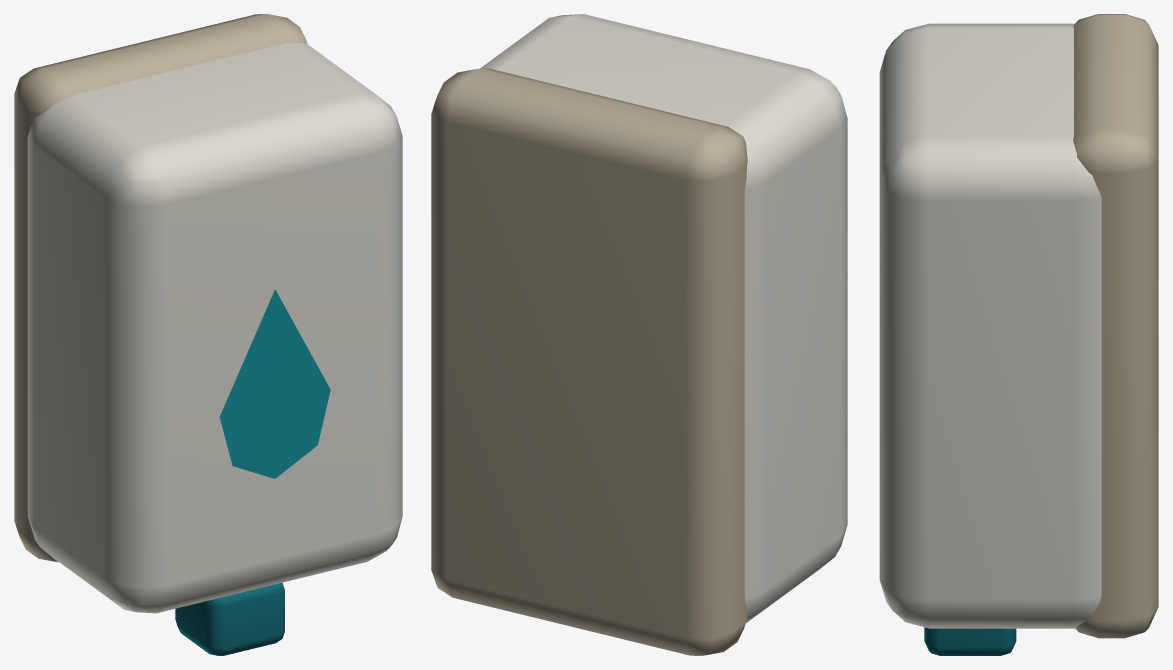
The model's file is 13_standard_soap_dispenser.glb.
3 renders of one model, left to right at view 1: azimuth 30°, elevation 25°; view 2: azimuth 150°, elevation 25°; view 3: azimuth 270°, elevation 25°, orthographic. The views are drawn at different scales.
Visible parts, largest first — view 1: 13_standard_soap_dispenser__Static; view 2: 13_standard_soap_dispenser__Static; view 3: 13_standard_soap_dispenser__Static.
Part boxes in pixels (x1,y1,x2,y2): 13_standard_soap_dispenser__Static: [14, 14, 402, 655]; 13_standard_soap_dispenser__Static: [431, 14, 847, 655]; 13_standard_soap_dispenser__Static: [879, 14, 1158, 655].
Bounding box in the file's own units: 0.158 × 0.2805 × 0.126.
